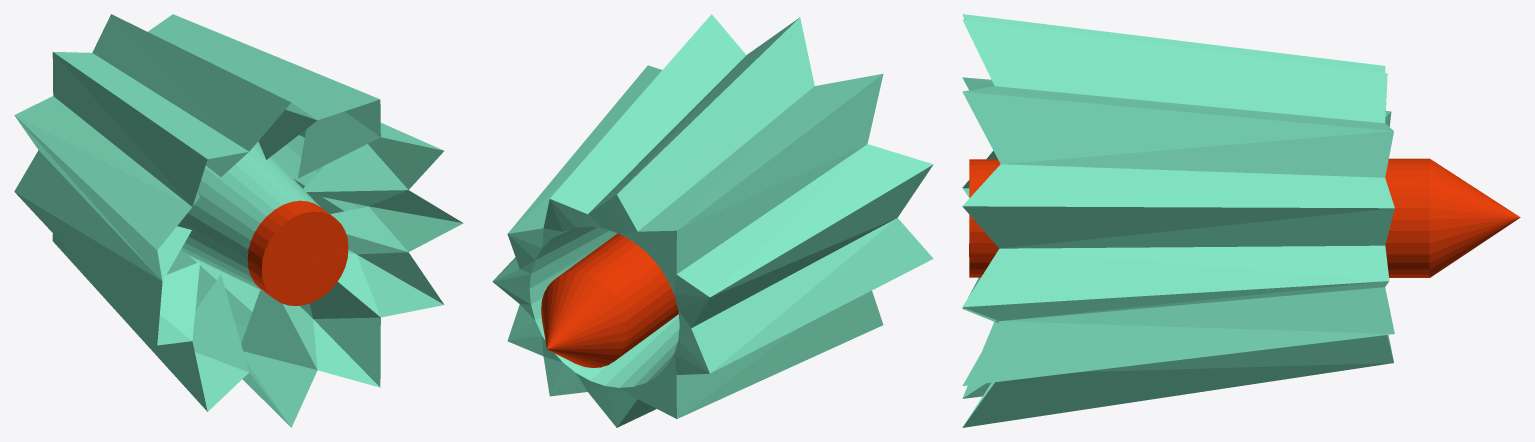
The model's file is Muzzle.dae.
The picture shows the model from 3 angles, left to right: view 1: azimuth 30°, elevation 25°; view 2: azimuth 150°, elevation 25°; view 3: azimuth 270°, elevation 25°; orthographic projection. The views are drawn at different scales.
Parts seen in each view (by area): view 1: out, in; view 2: out, in; view 3: out, in.
Boxes of the visible parts, x1,y1,x2,y2 form: out: [14, 14, 463, 427]; in: [247, 200, 348, 305]; out: [492, 14, 933, 427]; in: [541, 233, 678, 367]; out: [962, 14, 1394, 427]; in: [969, 158, 1520, 277].
Size of the model in its own units: 1.95 by 2.64 by 1.98.
